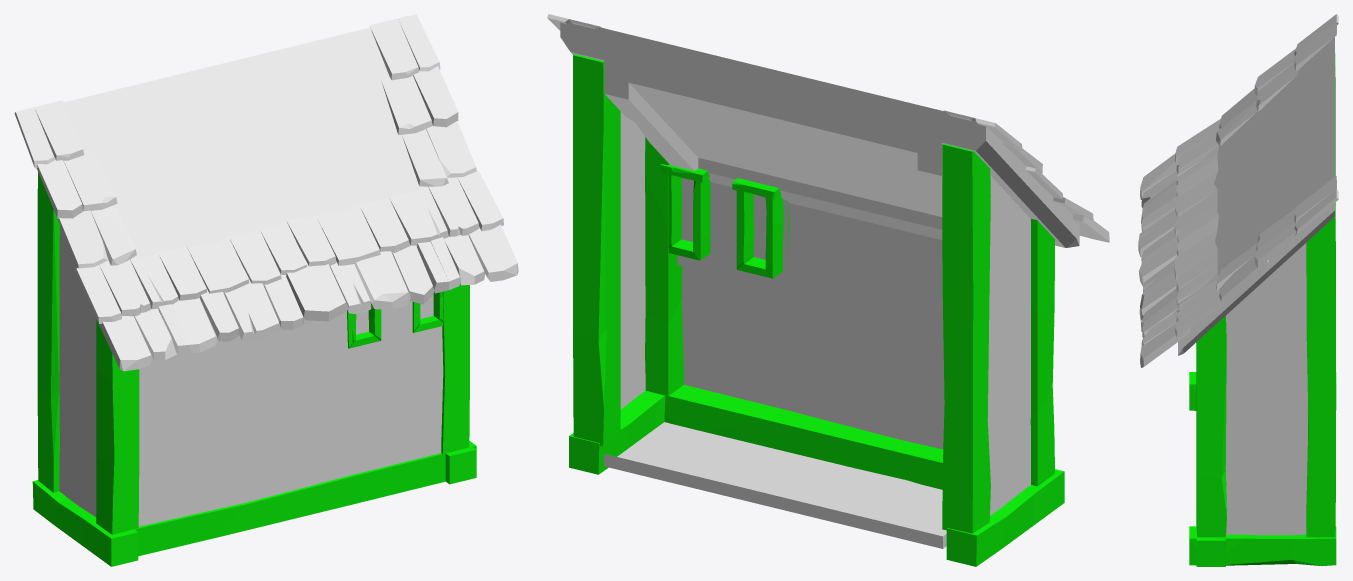
Rendered from SM_House_Annex_A_Fantasy.fbx.
3 views of the same model, side by side, from view 1: azimuth 30°, elevation 25°; view 2: azimuth 150°, elevation 25°; view 3: azimuth 270°, elevation 25° (orthographic). The views are drawn at different scales.
Visible parts, largest first — view 1: SM_House_Annex_A_Fantasy; view 2: SM_House_Annex_A_Fantasy; view 3: SM_House_Annex_A_Fantasy.
Boxes of the visible parts, box(x1,y1,x2,y2) form: SM_House_Annex_A_Fantasy: box(14, 14, 518, 566); SM_House_Annex_A_Fantasy: box(547, 14, 1109, 566); SM_House_Annex_A_Fantasy: box(1138, 14, 1338, 566).
Size of the model in its own units: 3.76 by 3.57 by 1.72.
